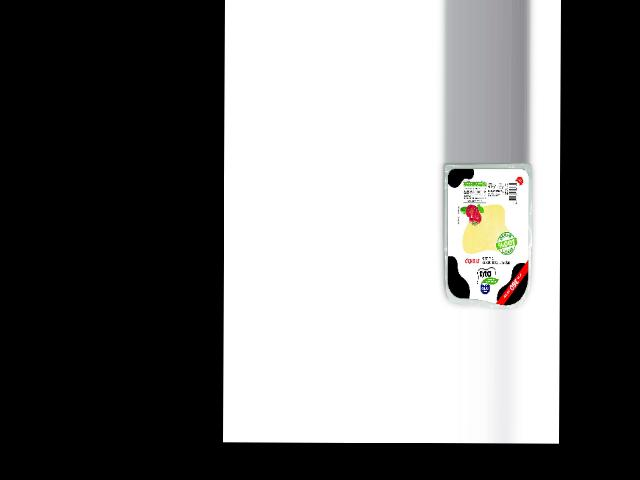cheese: (443, 163, 532, 310)
